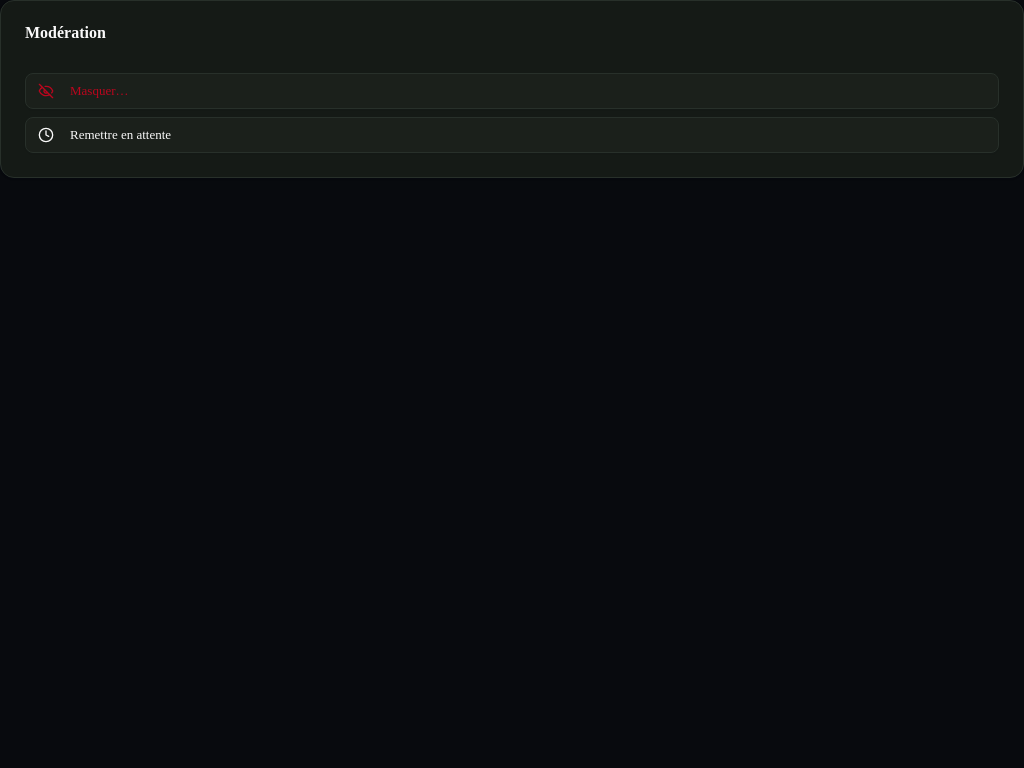
Test: PostModerationCard › keeps hiding behind its dialog
Click the button "Masquer…" at [99, 90], box [25, 73, 999, 109]
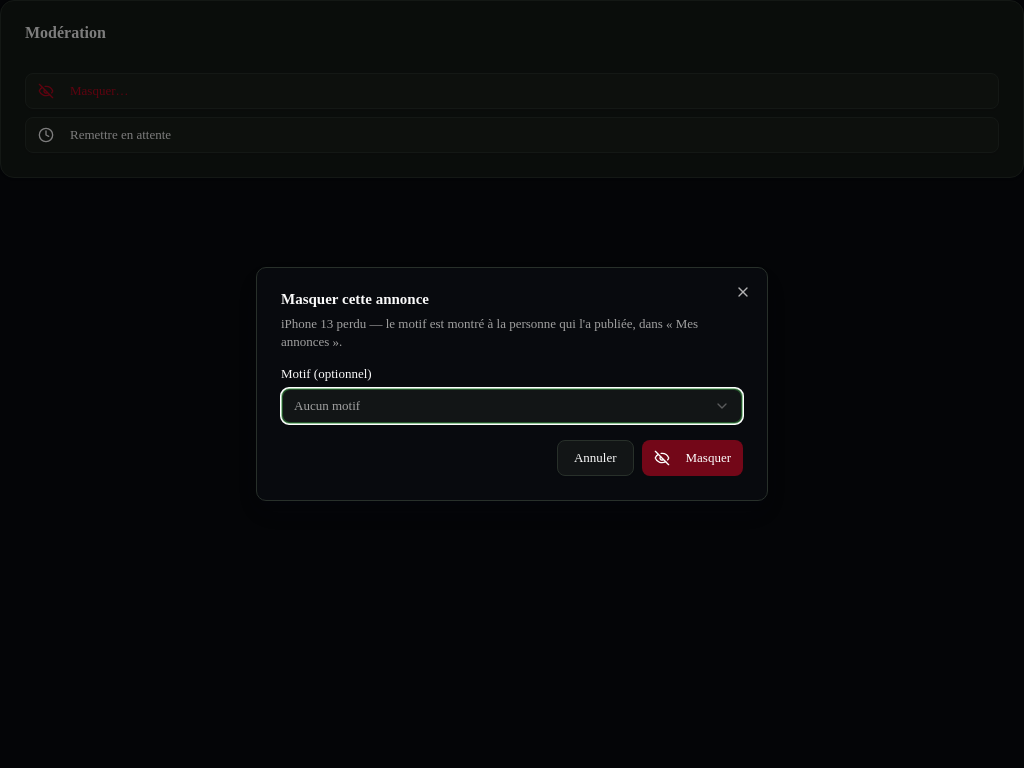
Expected: the dialog "Masquer" is shown, [256, 267, 768, 501]
